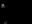person: (4, 18, 9, 24), (1, 5, 5, 10)
